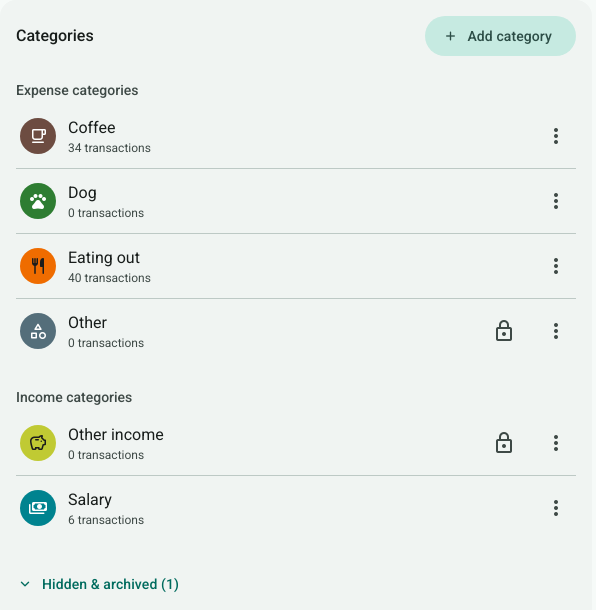
it: CategoriesSettingsComponent › merges through the dialog and says what moved
Click the 1st button with class "menu-button" at (556, 136), box [536,116,576,156]
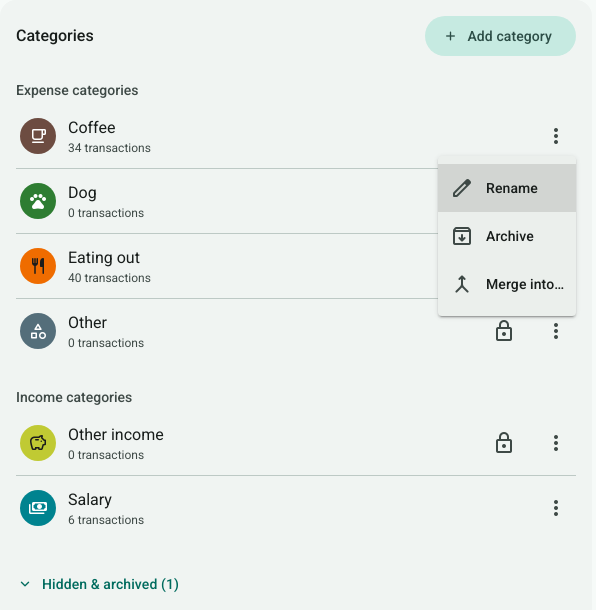
Click the menu item "Merge into…" at (507, 284), box [438,260,576,308]
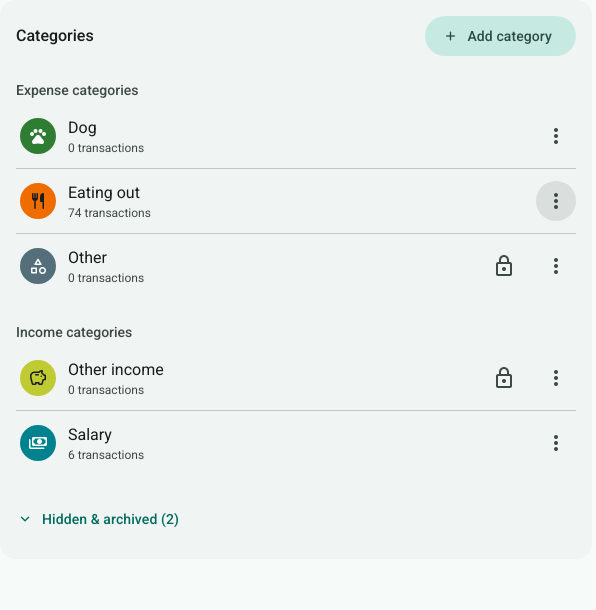
Now the text with class "count" reads "74 transactions", box [68,206,151,220]
